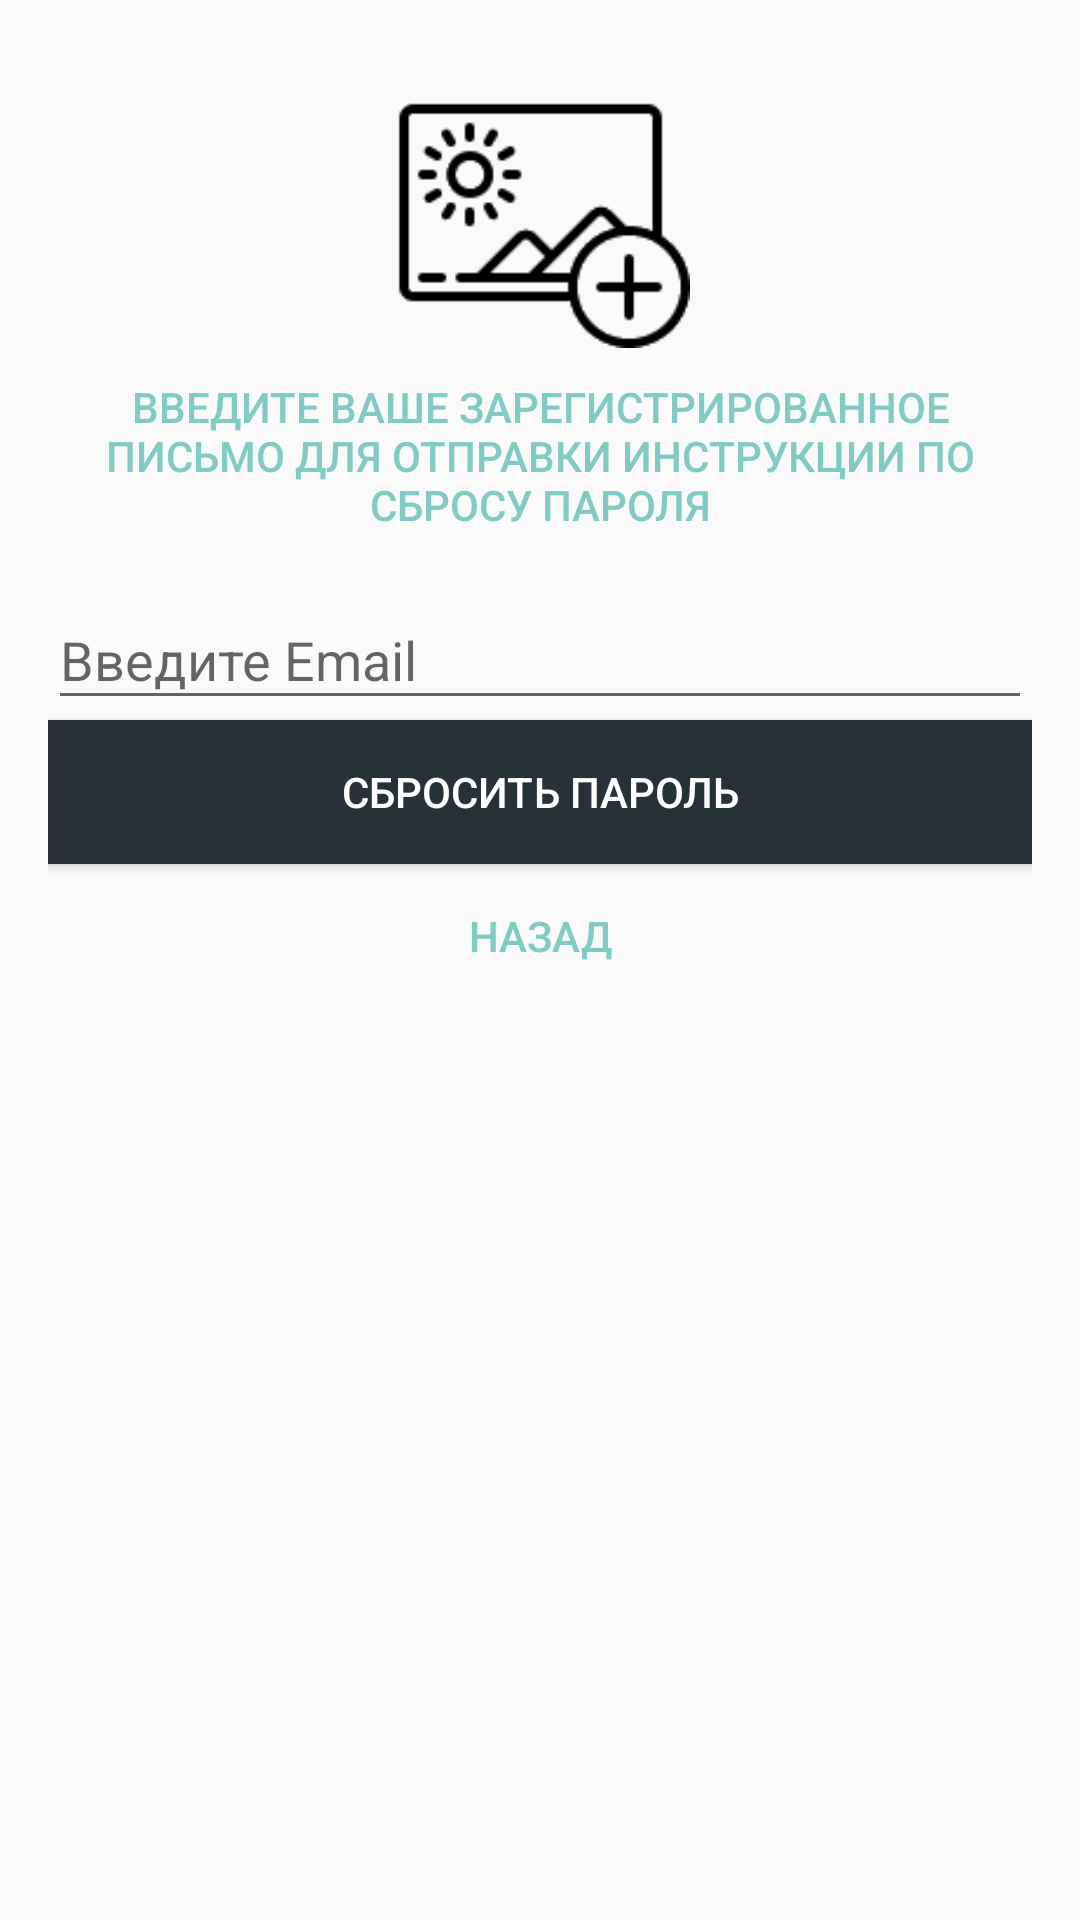

Screen size 1080x1920. Icon name, then its box in pixels as (x1=x1, y1=y1, x2=x2, y2=y2):
add: (x1=398, y1=103, x2=690, y2=348)
